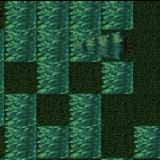Obstacle: (100, 28, 134, 61)
Slow: (36, 0, 68, 93), (4, 93, 36, 160), (68, 93, 100, 157), (68, 0, 101, 61), (4, 0, 36, 60), (100, 61, 134, 94), (36, 124, 68, 158), (101, 0, 134, 29), (133, 125, 160, 157)
